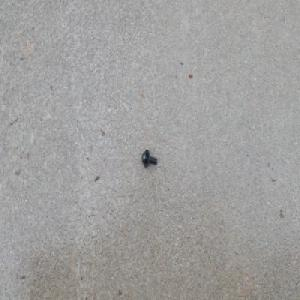BoltWasher: (141, 148, 157, 168)
